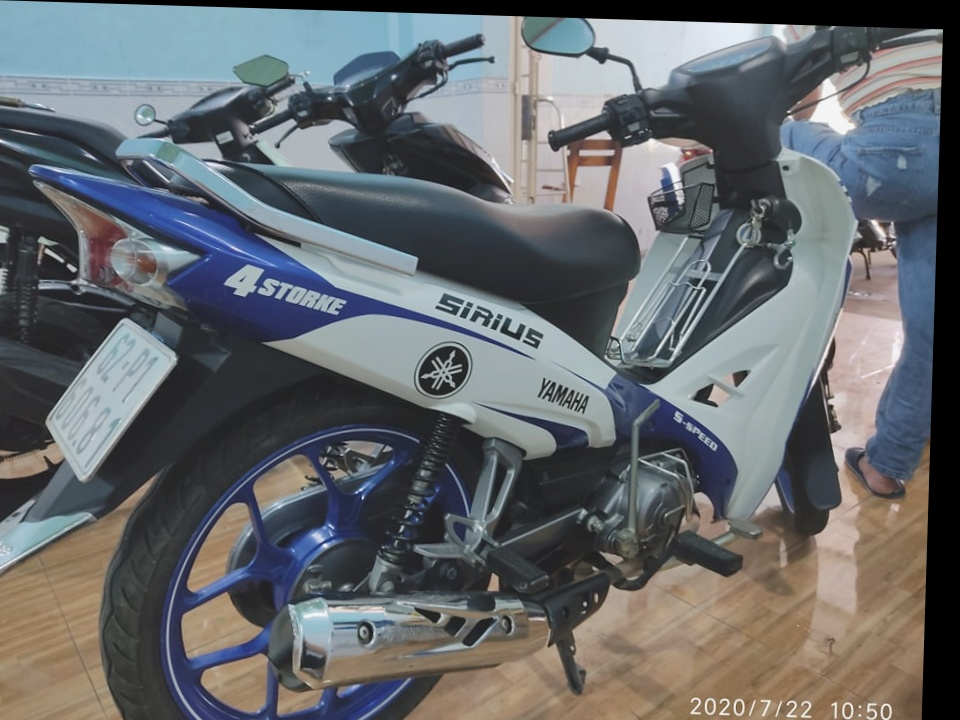Bien-so: (82, 341, 225, 504)
